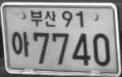0: (92, 32, 111, 67)
1: (76, 10, 88, 29)
4: (71, 33, 91, 64)
7: (32, 30, 50, 64), (51, 31, 69, 65)
9: (61, 9, 74, 28)
부산_H: (29, 8, 58, 27)
아: (11, 30, 30, 57)
